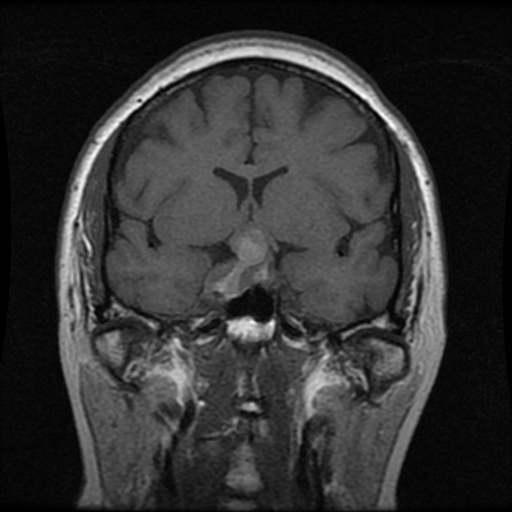pituitary: (206, 227, 274, 302)
